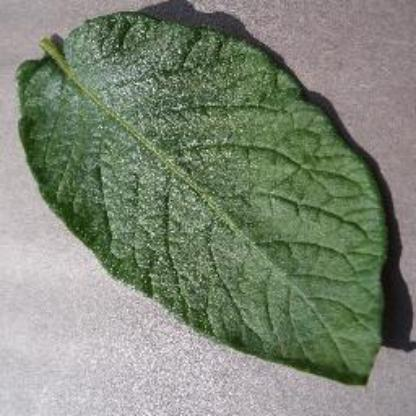Healthy-plant: (9, 19, 396, 382)
